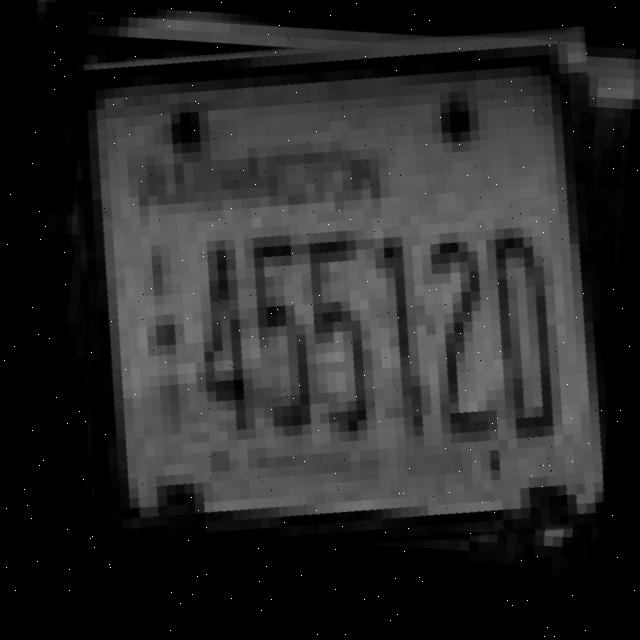LicensePlate: (23, 0, 640, 612)
